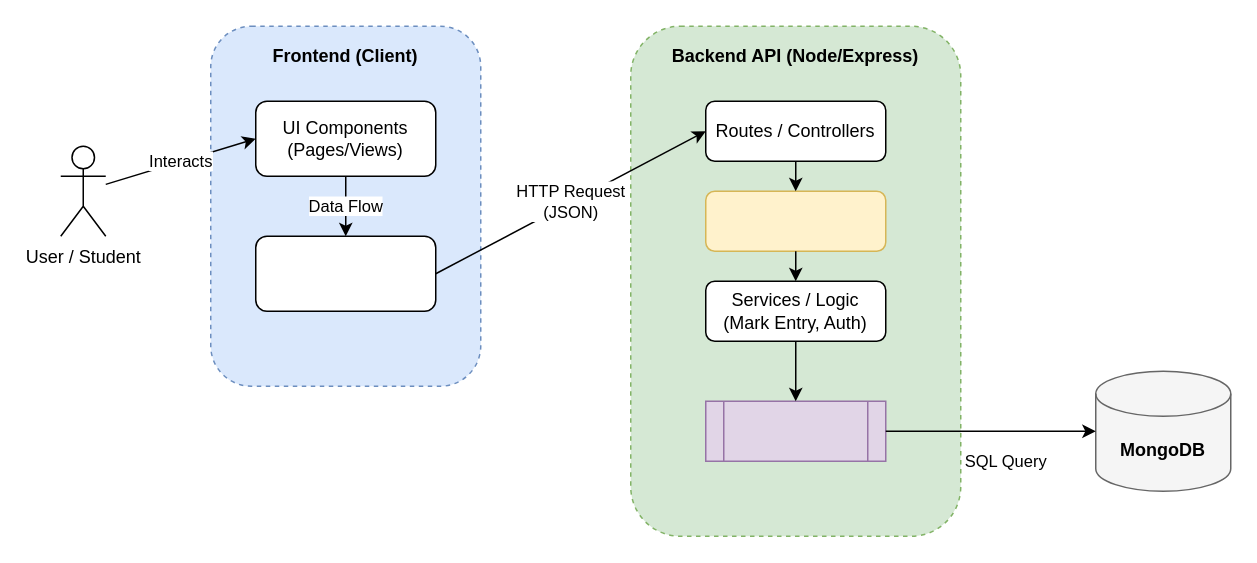
Image size: 1257x563. Some labels were removed from this diagram. Each missing label, with the centre of its shape:
API Client (Axios/Fetch): pixel 345 273
Mongoose ODM: pixel 795 430
Zod Validation: pixel 795 220
